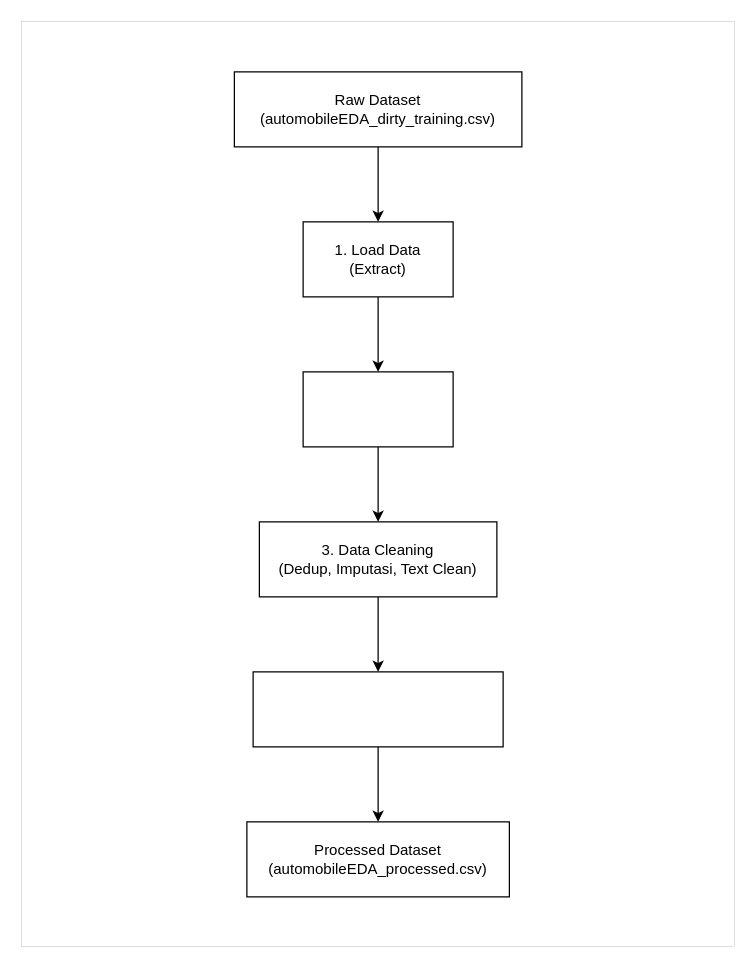
This 755x968 diagram has some shape labels left out. Each missing label, with the box of its shape:
2. Data Inspection (Profiling & Audit): (302, 371, 453, 447)
4. Data Transformation (Encoding, Scaling, OHE): (252, 671, 503, 747)
